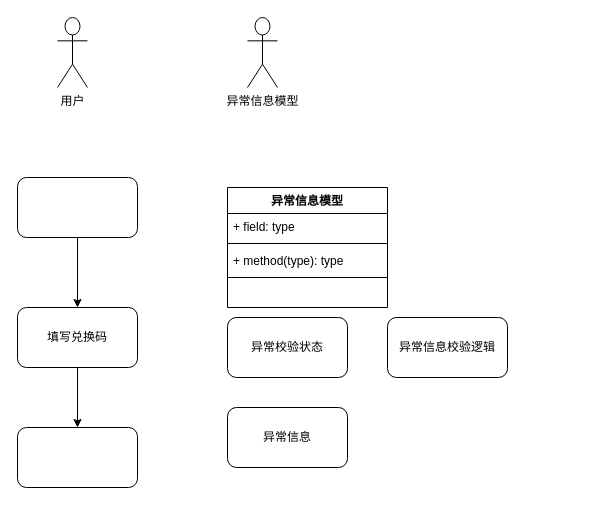
Image size: 595x505. Some labels were removed from this diagram. The shapes that lost their labels are listed below. From the top down, each one's centre as x and y in pixels, then its label:
At (x=77, y=207): "切换上牌地".
At (x=77, y=457): "下一步".
